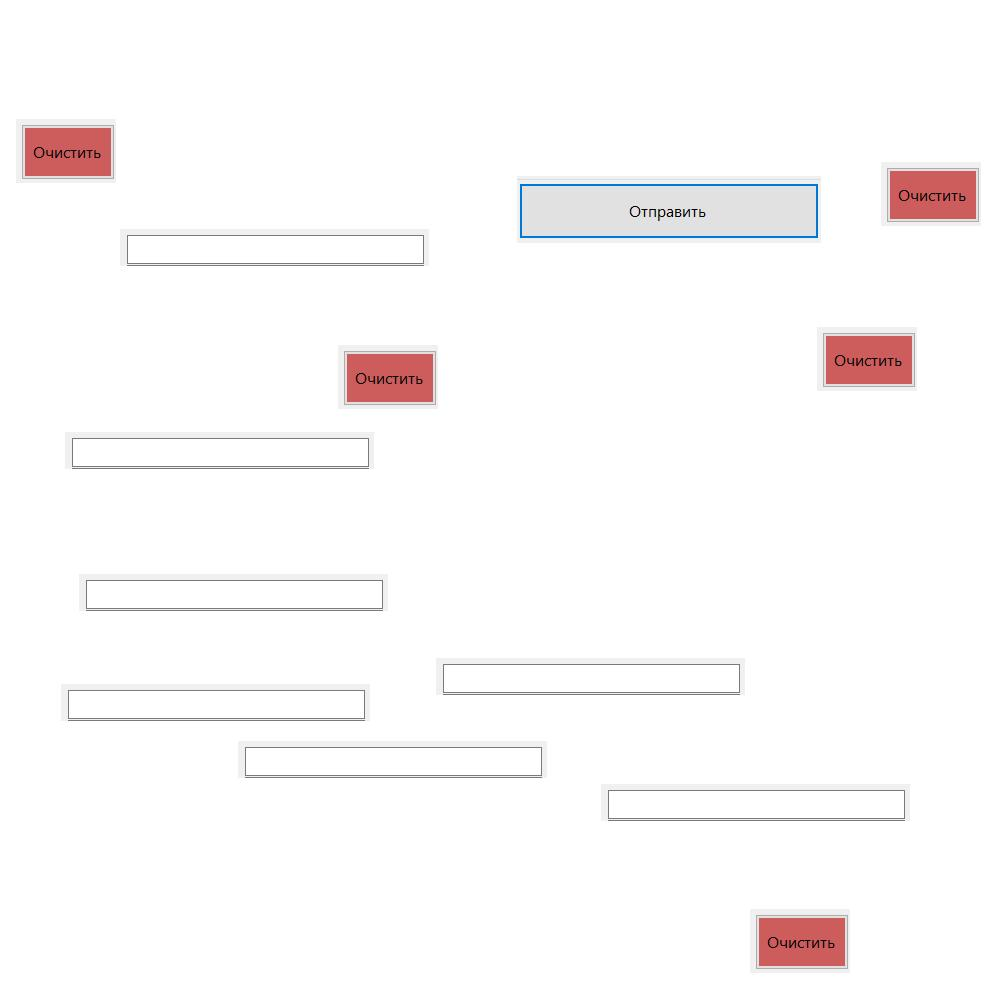Button: (517, 176, 821, 243), (16, 119, 116, 183), (750, 909, 850, 973), (817, 327, 917, 391), (881, 162, 981, 226), (338, 345, 438, 409)
EditText-: (79, 574, 388, 611), (61, 684, 370, 721), (601, 784, 910, 821), (436, 658, 745, 695), (65, 432, 374, 469), (120, 229, 429, 266), (238, 741, 547, 778)
